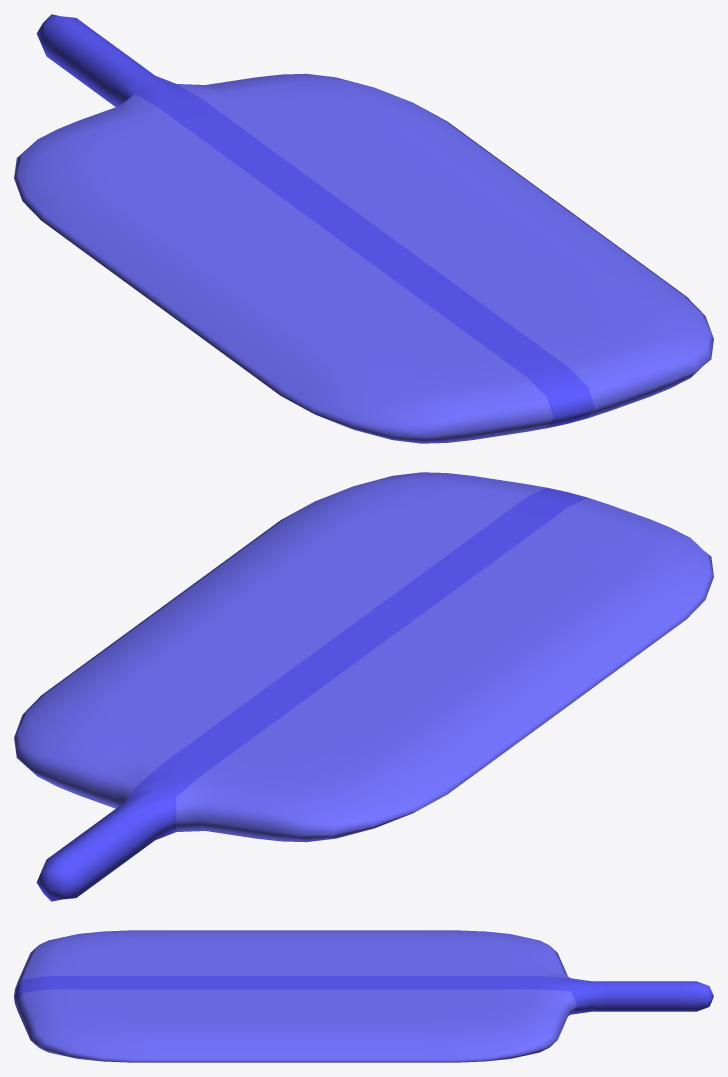
Rendered from blue leaf.fbx.
3 views of the same model, one above another, from view 1: azimuth 30°, elevation 25°; view 2: azimuth 150°, elevation 25°; view 3: azimuth 270°, elevation 25° (orthographic). The views are drawn at different scales.
Visible parts, largest first — view 1: leaf; view 2: leaf; view 3: leaf.
Part boxes in pixels (box(x1,y1,x2,y2)): leaf: box(14, 14, 713, 443); leaf: box(14, 472, 713, 901); leaf: box(14, 930, 713, 1062).
Size of the model in its own units: 0.5197 by 0.051 by 1.17.
